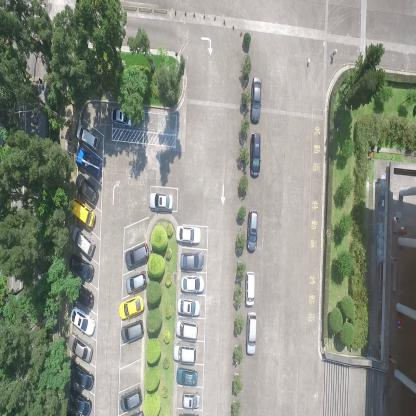car: (69, 196, 95, 230), (74, 172, 98, 207), (67, 360, 95, 390), (75, 147, 102, 178), (66, 333, 93, 364), (71, 224, 95, 258), (68, 253, 95, 283), (69, 306, 96, 336), (65, 387, 92, 415), (119, 292, 144, 320), (125, 241, 148, 270), (120, 318, 145, 344), (75, 124, 99, 151), (72, 281, 95, 309), (119, 384, 142, 412), (110, 104, 136, 128), (148, 190, 173, 214), (246, 208, 259, 254), (126, 269, 148, 296), (250, 76, 262, 124), (179, 249, 204, 272), (176, 223, 201, 245), (250, 133, 262, 178), (245, 311, 257, 356), (177, 297, 201, 318), (172, 343, 196, 364), (180, 275, 205, 295), (175, 320, 198, 341), (176, 366, 198, 387), (244, 270, 256, 308), (182, 390, 200, 410)
